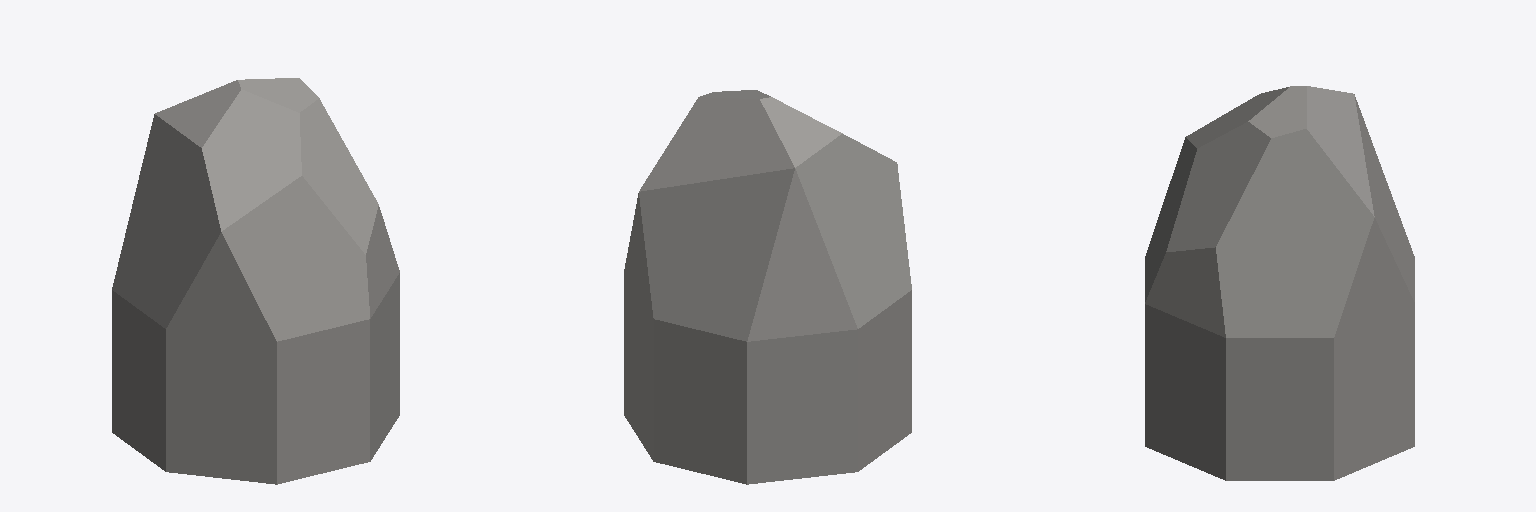
The model's file is Mountain_1.obj.
3 renders of one model, left to right at view 1: azimuth 30°, elevation 25°; view 2: azimuth 150°, elevation 25°; view 3: azimuth 270°, elevation 25°, orthographic.
Visible parts, largest first — view 1: object1; view 2: object1; view 3: object1.
Boxes of the visible parts, box(x1,y1,x2,y2) form: object1: box(112, 78, 399, 484); object1: box(624, 90, 911, 484); object1: box(1145, 86, 1414, 480).
Size of the model in its own units: 5 by 6.85 by 5.